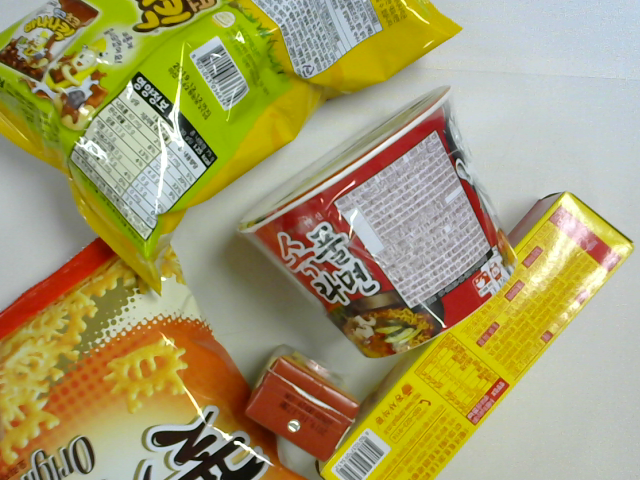Banana_Kick: (5, 1, 424, 241)
Choco_E_Mong: (250, 345, 370, 452)
Crabrang: (10, 206, 277, 480)
Hejangpul: (244, 114, 492, 341)
Ritz_Remon_96g: (311, 183, 632, 480)
